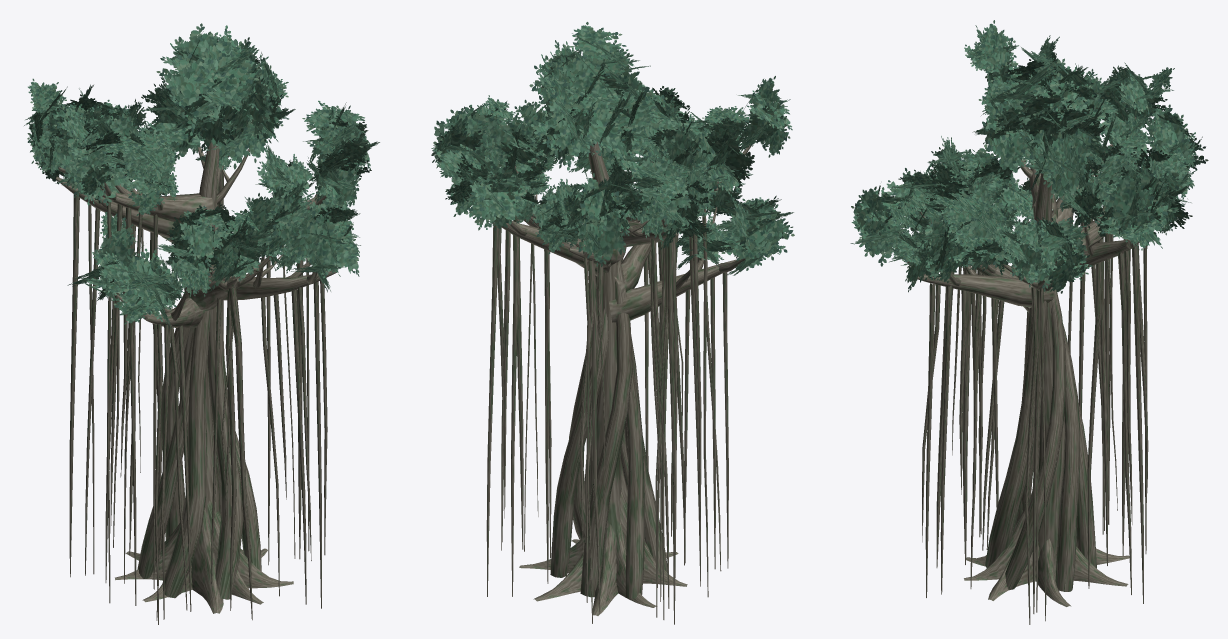
File: big-tree-2.glb
The picture shows the model from 3 angles, left to right: view 1: azimuth 30°, elevation 25°; view 2: azimuth 150°, elevation 25°; view 3: azimuth 270°, elevation 25°; orthographic projection. The views are drawn at different scales.
Visible parts, largest first — view 1: big-tree-2 · 绞杀榕; view 2: big-tree-2 · 绞杀榕; view 3: big-tree-2 · 绞杀榕.
Boxes of the visible parts, bbox=[...] form: big-tree-2 · 绞杀榕: bbox=[24, 23, 379, 624]; big-tree-2 · 绞杀榕: bbox=[431, 22, 794, 624]; big-tree-2 · 绞杀榕: bbox=[850, 20, 1208, 624].
Bounding box in the file's own units: 39.5 × 60 × 39.5.
2 materials, 2 textured.
